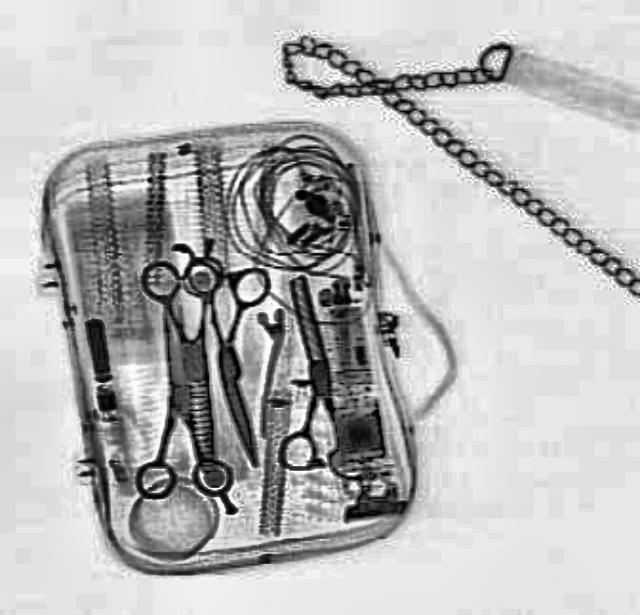Scissors: (175, 244, 303, 470), (136, 248, 258, 475), (250, 268, 370, 484), (122, 302, 228, 497)
